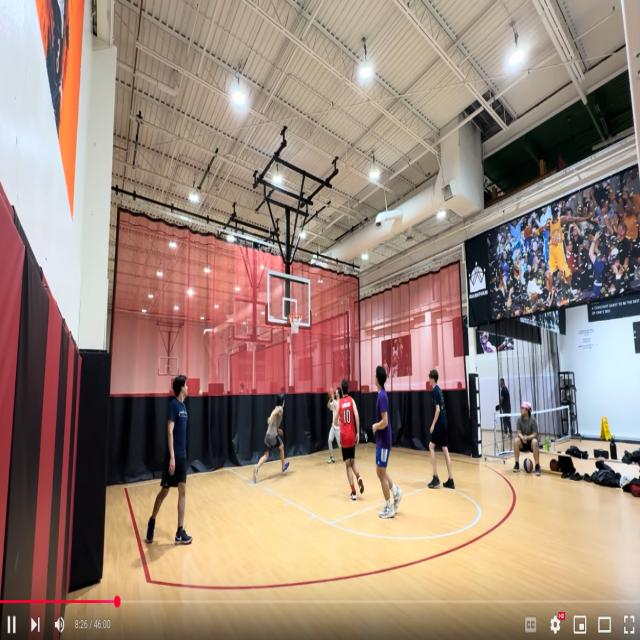Basketball: (327, 388, 334, 399)
Basketball Rim: (288, 313, 302, 334)
